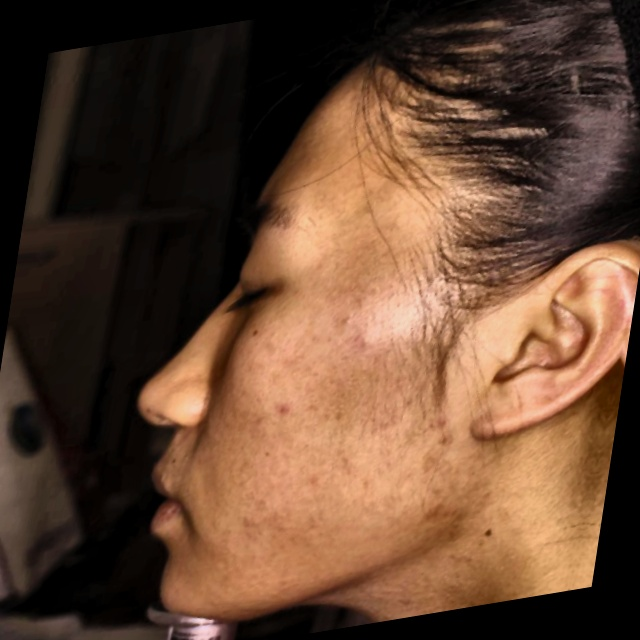comedone: (342, 326, 382, 367), (263, 386, 293, 424)
